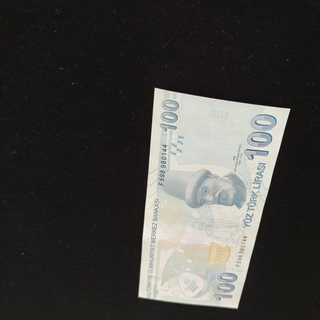100TLBack: (137, 87, 291, 308)
